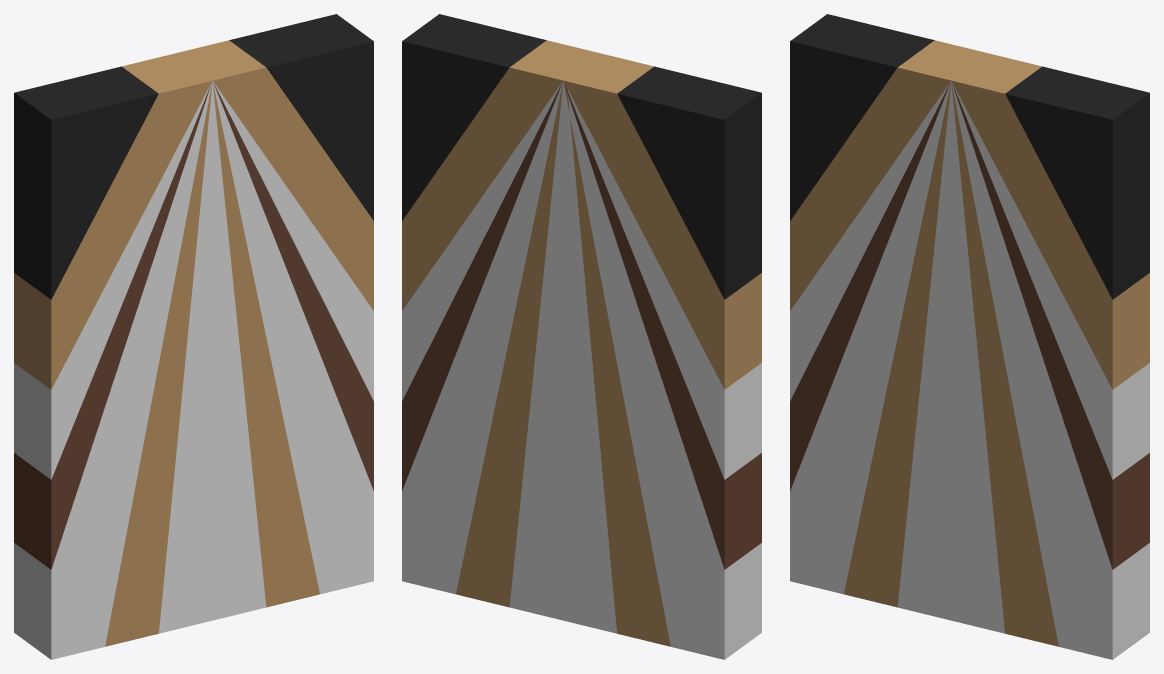
Rendered from DecoWall2.fbx.
3 renders of one model, left to right at view 1: azimuth 30°, elevation 25°; view 2: azimuth 150°, elevation 25°; view 3: azimuth 330°, elevation 25°, orthographic.
Parts seen in each view (by area): view 1: Cube; view 2: Cube; view 3: Cube.
Part boxes in pixels (x1,y1,x2,y2): Cube: (14,14,373,659); Cube: (402,14,761,659); Cube: (790,14,1149,659).
Bounding box in the file's own units: 100 × 160 × 20.
